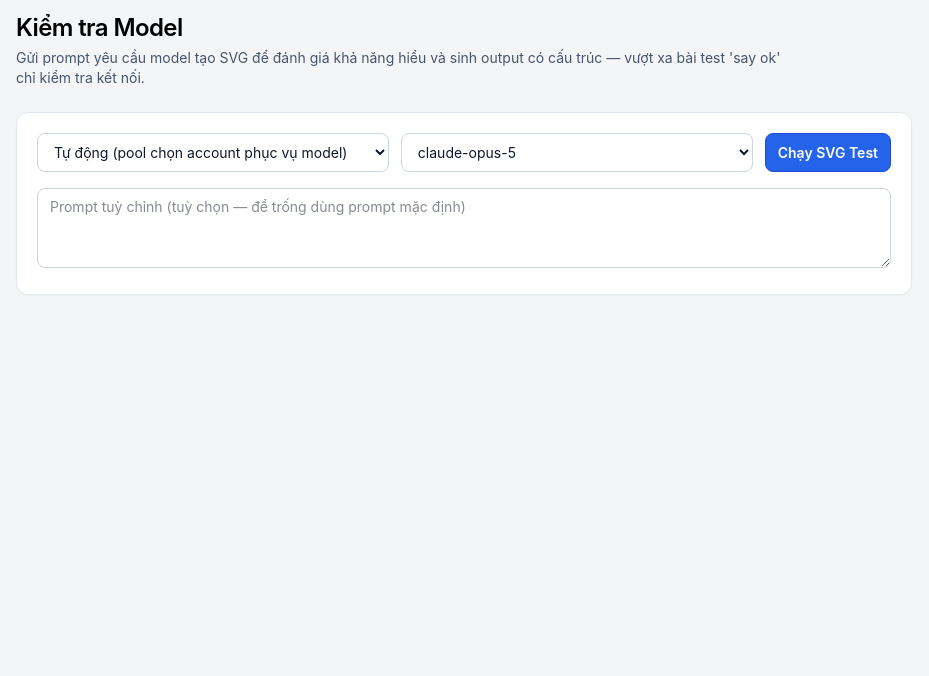
Test: ModelTestView › shows which account served the test
The width and height of the screenshot is (929, 676).
Click the button "Chạy SVG Test" at x=828, y=152, box [765,133,891,172]
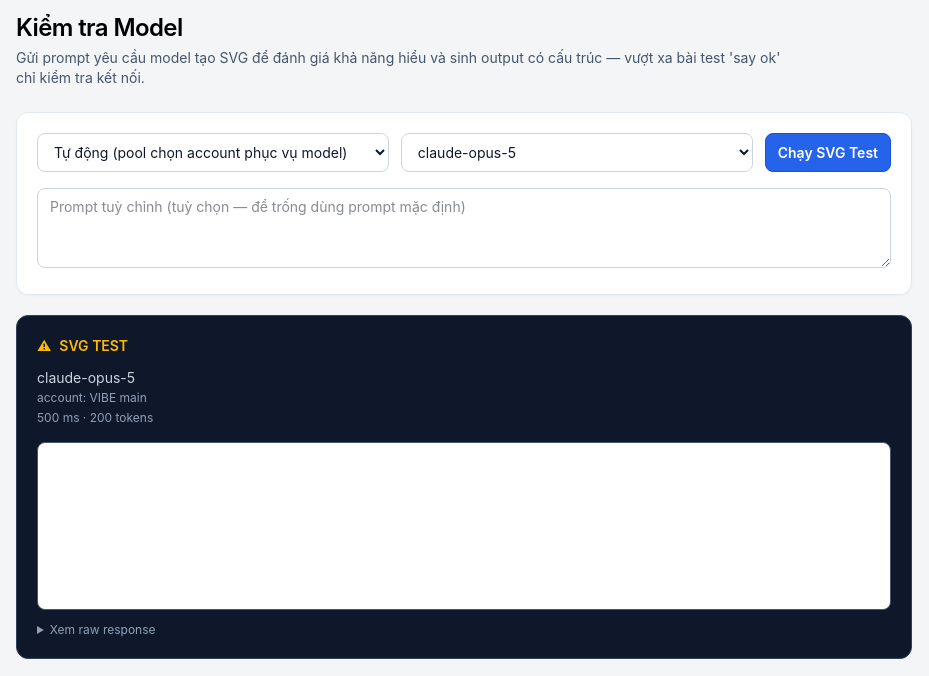
Result: the text "account: VIBE main" is shown at [37,390,147,405]
